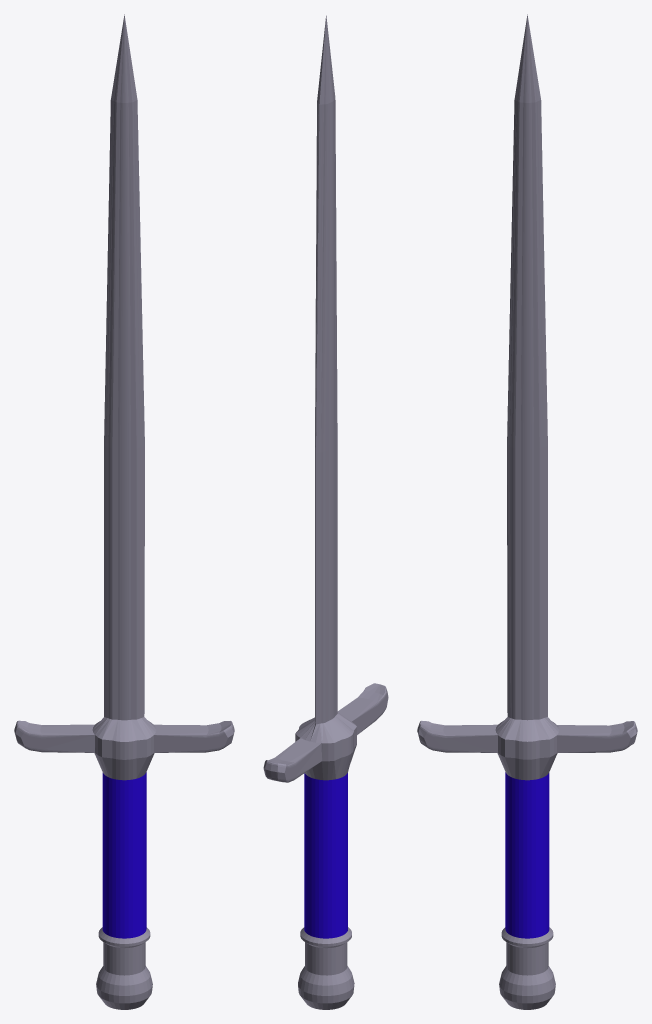
Rendered from sword.fbx.
3 renders of one model, left to right at view 1: azimuth 90°, elevation 25°; view 2: azimuth 150°, elevation 25°; view 3: azimuth 270°, elevation 25°, orthographic.
Visible parts, largest first — view 1: Sword; view 2: Sword; view 3: Sword.
Part boxes in pixels (x1,y1,x2,y2): Sword: (14,14,234,1009); Sword: (263,15,388,1009); Sword: (417,14,637,1009).
Bounding box in the file's own units: 0.6316 × 12.15 × 2.44.
